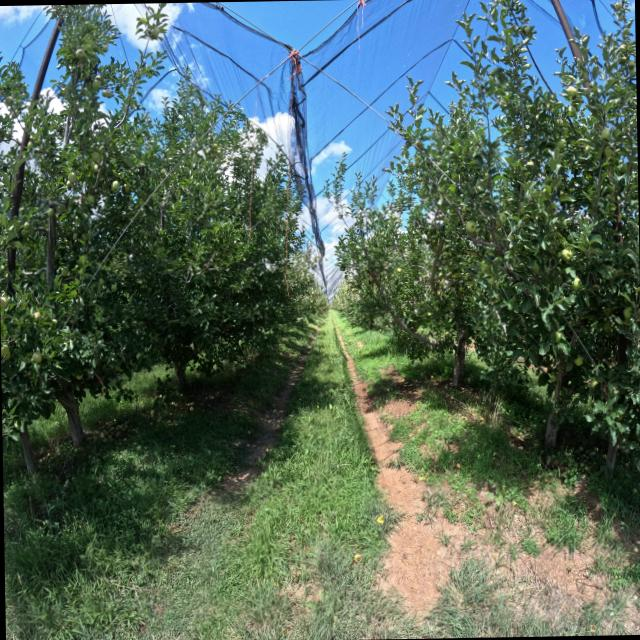-FireBlight-: (367, 266, 378, 286)
